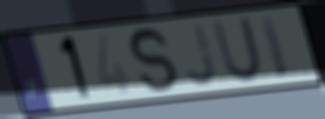1: (56, 33, 94, 103)
4: (96, 31, 134, 98)
I: (257, 12, 292, 82)
J: (183, 20, 221, 89)
S: (128, 25, 180, 97)
U: (211, 16, 265, 85)
